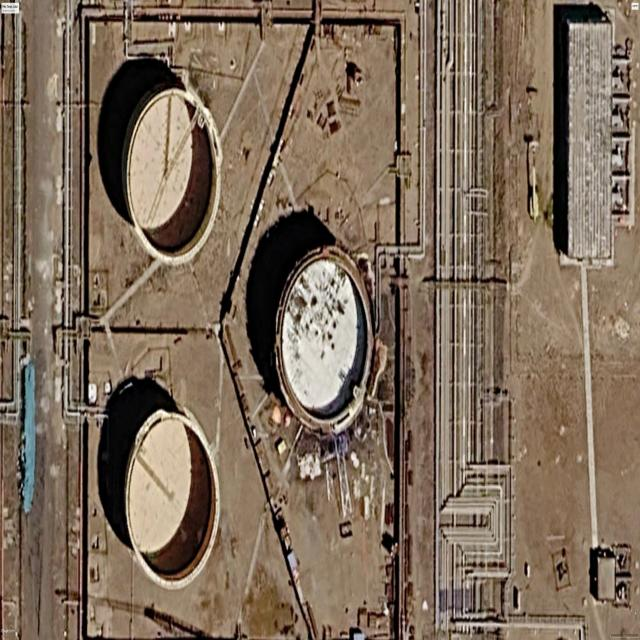Oil Rafinery: (98, 59, 222, 263), (274, 246, 375, 433), (124, 409, 220, 589)
